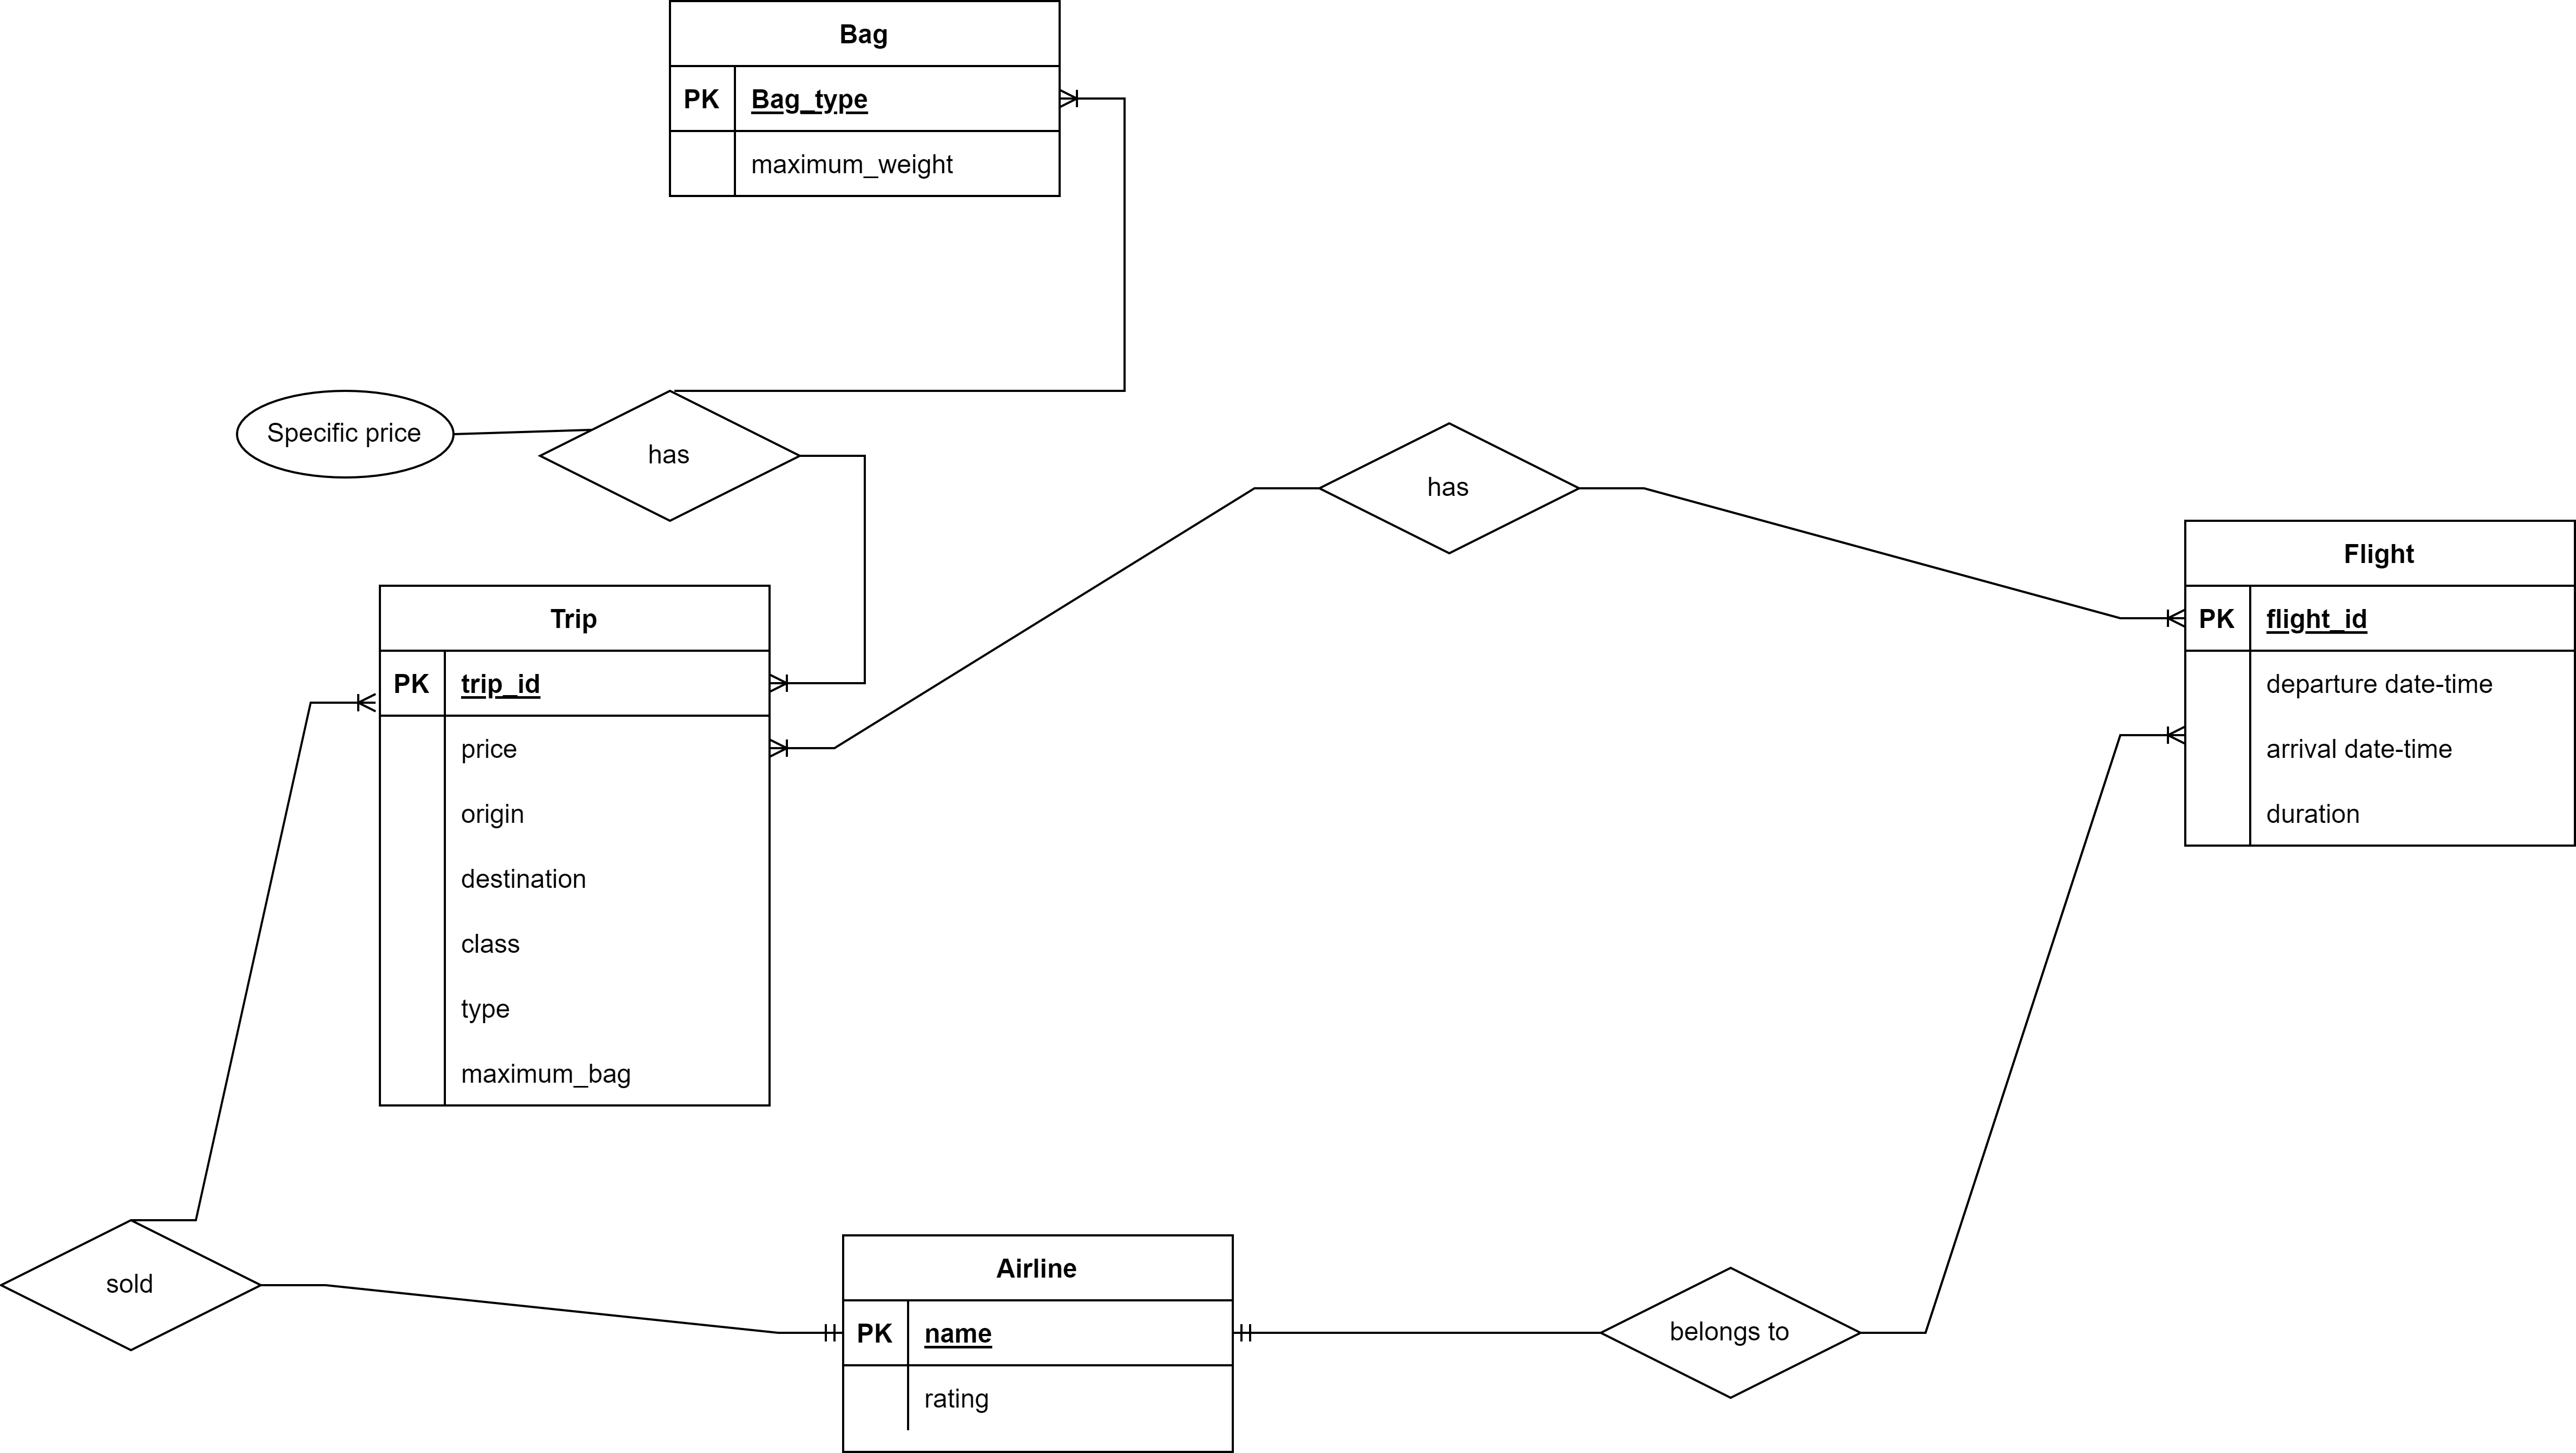entity: (382, 584, 771, 1108), (2181, 517, 2576, 842), (840, 1232, 1235, 1453), (667, 0, 1062, 195)
many: (768, 653, 849, 706), (308, 673, 377, 726), (1058, 74, 1125, 122), (770, 726, 837, 768), (2120, 595, 2178, 635), (2120, 713, 2180, 750)
one: (786, 1310, 842, 1350), (1235, 1311, 1276, 1356)
rel: (0, 1218, 260, 1354), (1320, 419, 1578, 554), (1599, 1262, 1858, 1396), (541, 393, 805, 520)
rel_attr: (239, 389, 453, 480)
